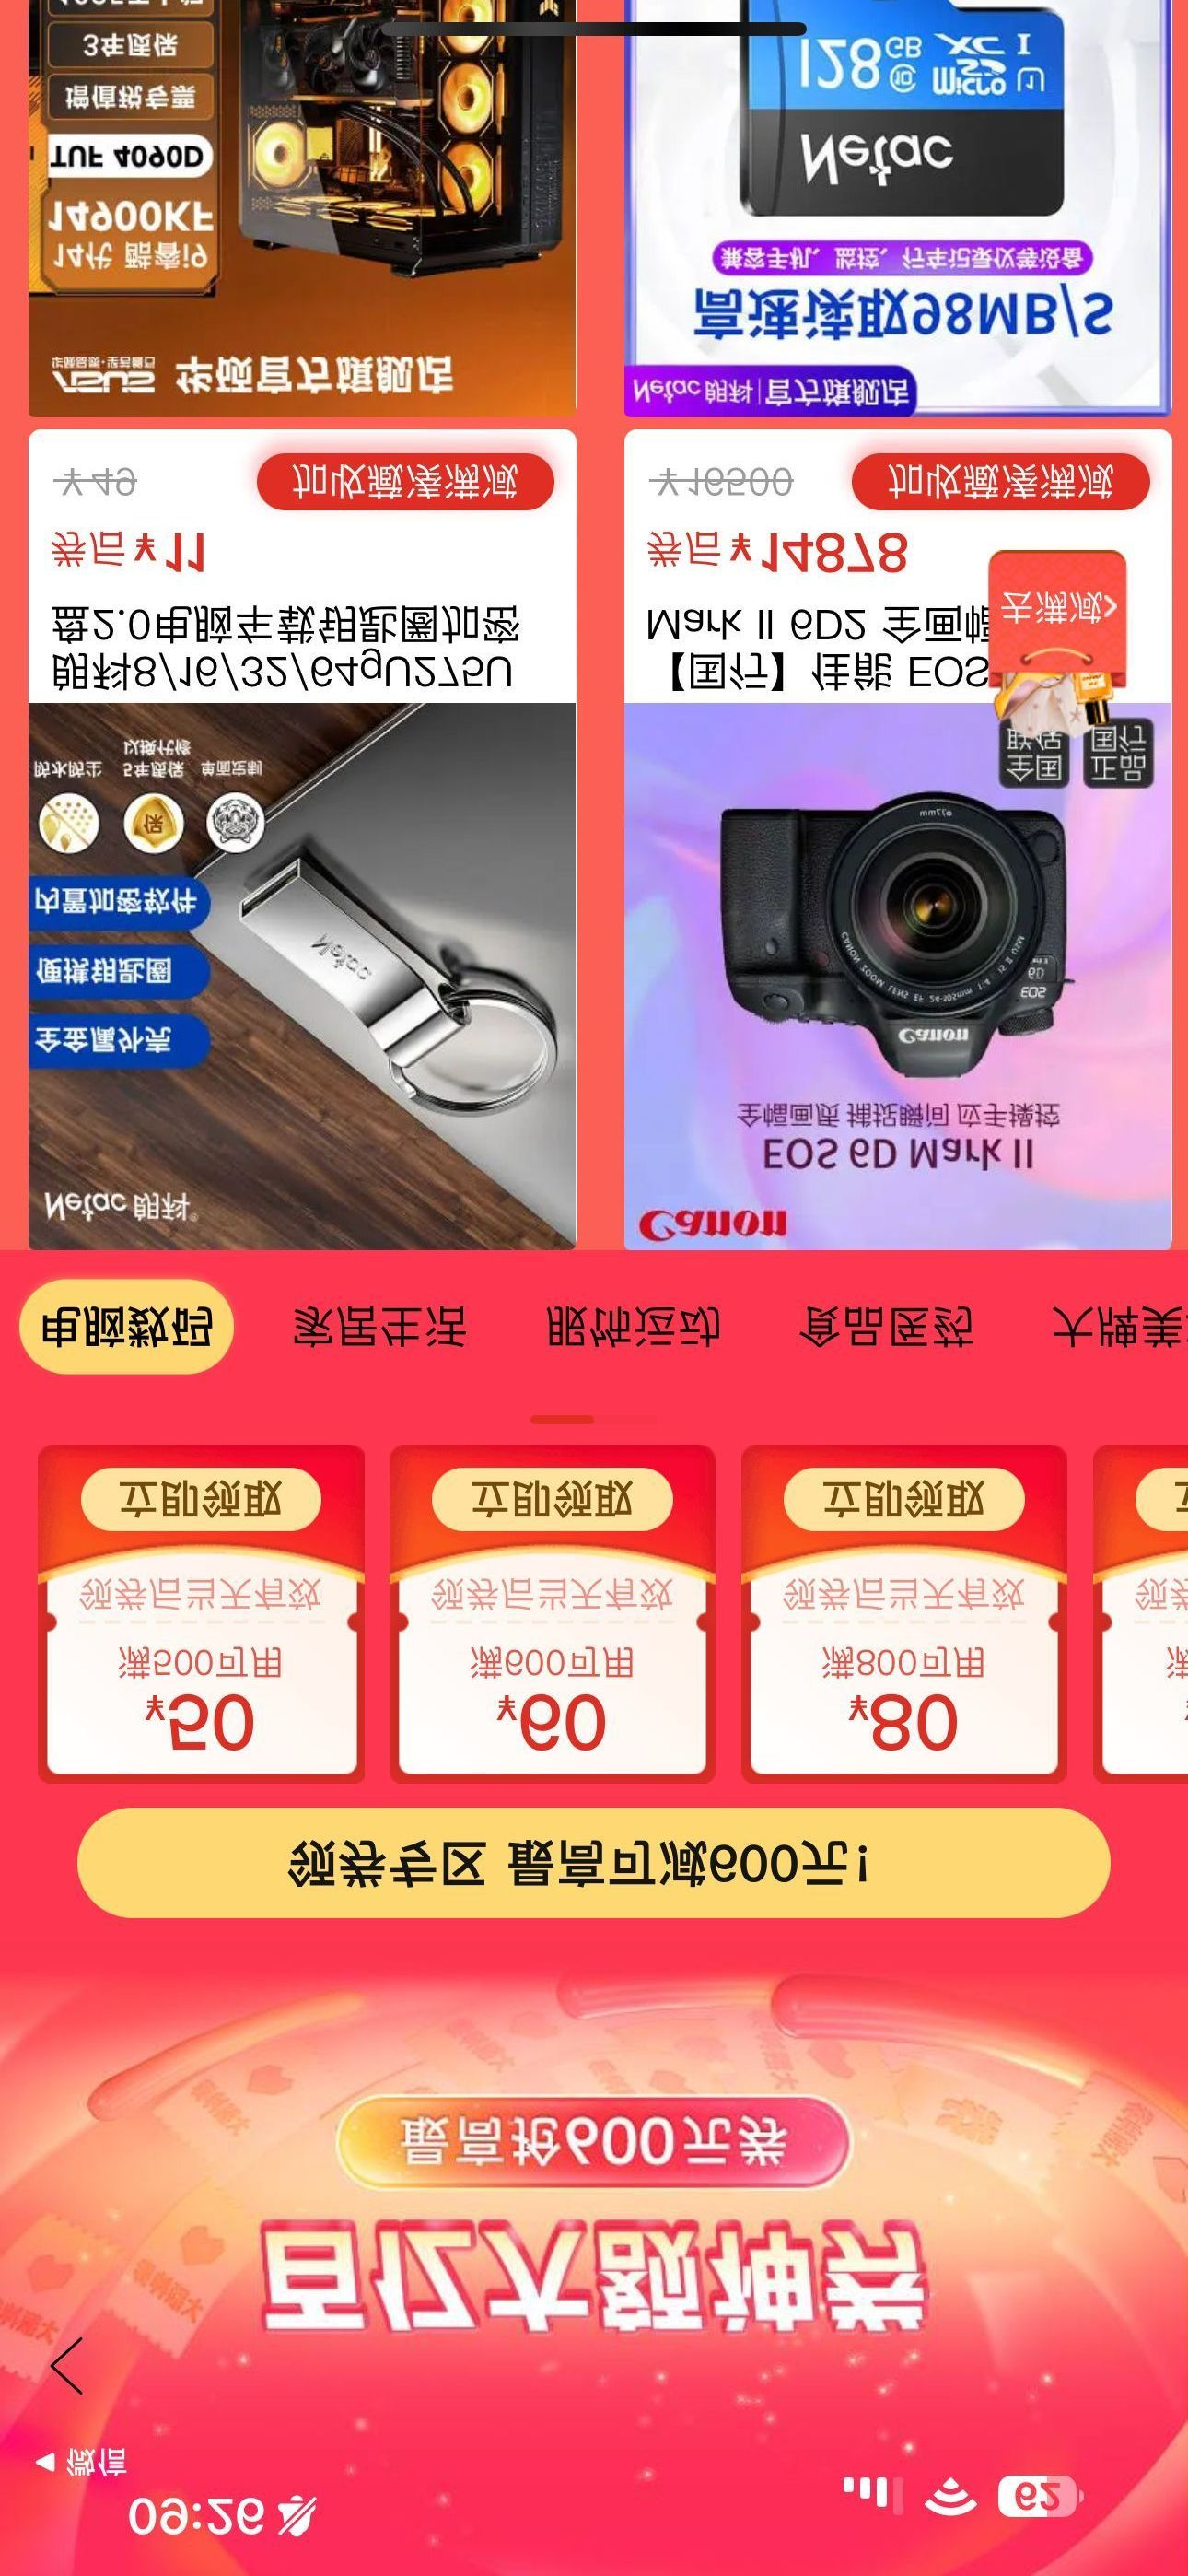item: (13, 421, 577, 1285), (626, 427, 1172, 1247)
op_bar: (2, 2313, 1186, 2443)
